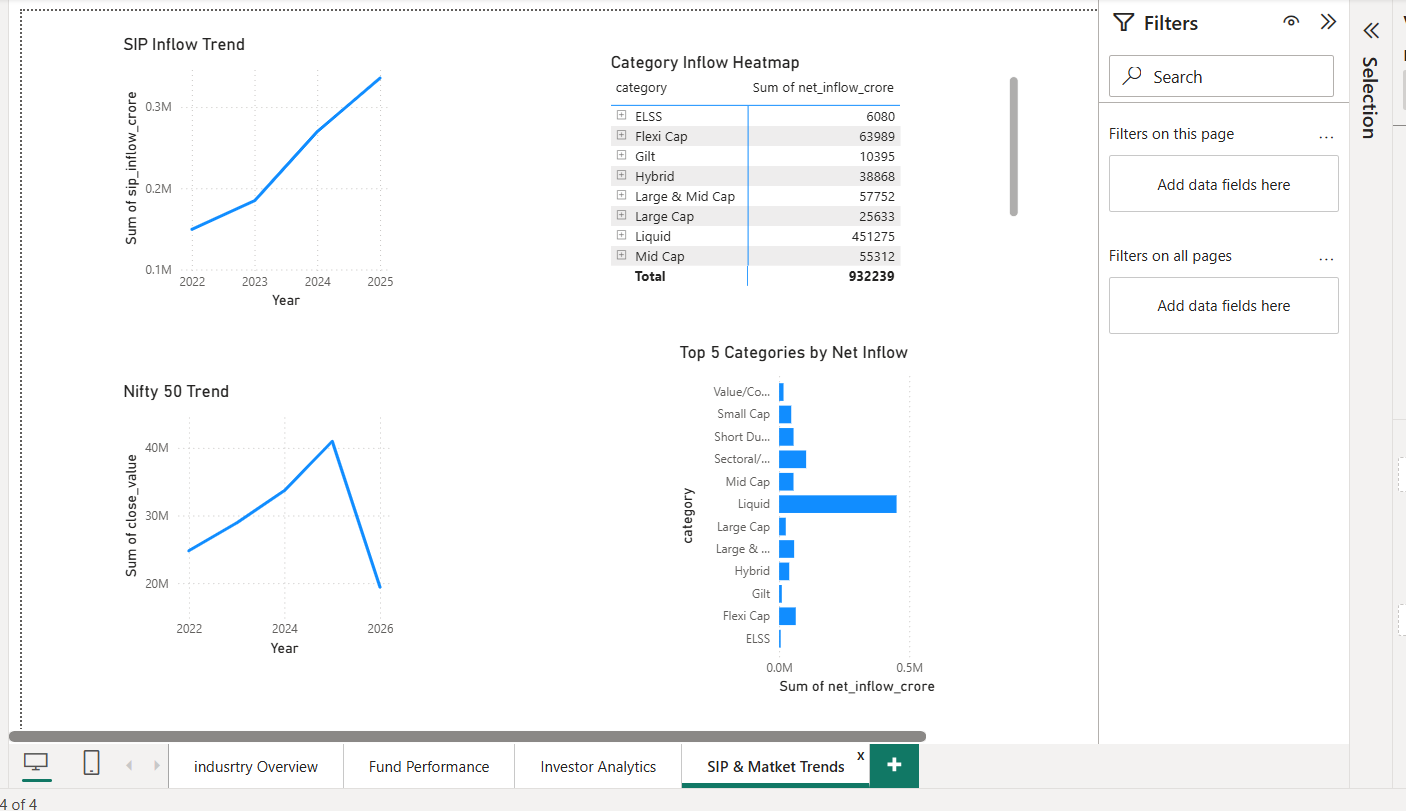

The page's visual inventory and layout, read from the dashboard file:
{"tool":"powerbi","page":{"name":"SIP & Matket Trends","canvas":[1280,720],"ordinal":3},"visuals":[{"type":"lineChart","title":"SIP Inflow Trend","fields":{"Category":["04_monthly_sip_inflows_clean.month.Variation.Date Hierarchy.Year","04_monthly_sip_inflows_clean.month.Variation.Date Hierarchy.Quarter","04_monthly_sip_inflows_clean.month.Variation.Date Hierarchy.Month","04_monthly_sip_inflows_clean.month.Variation.Date Hierarchy.Day"],"Y":["Sum(04_monthly_sip_inflows_clean.sip_inflow_crore)"]},"box":[96.2,22.5,280,280],"z":0},{"type":"lineChart","title":"Nifty 50 Trend","fields":{"Category":["10_benching_indices_clean.date.Variation.Date Hierarchy.Year","10_benching_indices_clean.date.Variation.Date Hierarchy.Quarter","10_benching_indices_clean.date.Variation.Date Hierarchy.Month","10_benching_indices_clean.date.Variation.Date Hierarchy.Day"],"Y":["Sum(10_benching_indices_clean.close_value)"]},"box":[96.2,370,280,280],"z":1},{"type":"pivotTable","title":"Category Inflow Heatmap","fields":{"Rows":["05_category_inflows_clean.category","05_category_inflows_clean.month.Variation.Date Hierarchy.Year","05_category_inflows_clean.month.Variation.Date Hierarchy.Quarter","05_category_inflows_clean.month.Variation.Date Hierarchy.Month","05_category_inflows_clean.month.Variation.Date Hierarchy.Day"],"Values":["Sum(05_category_inflows_clean.net_inflow_crore)"]},"box":[583.8,41.2,417.5,238.8],"z":2},{"type":"barChart","title":"Top 5 Categories by Net Inflow","fields":{"Category":["05_category_inflows_clean.category"],"Y":["Sum(05_category_inflows_clean.net_inflow_crore)"]},"box":[652.5,331.2,280,357.5],"z":3}]}

Visuals, with their boxes on the page's 1280x720 design canvas (x1, y1, x2, y2). These are canvas units, not pixel positions in the 1406x811 screenshot, which may show the page scaled, cropped or inside an application window:
"SIP Inflow Trend" lineChart: 96 22 376 302
"Nifty 50 Trend" lineChart: 96 370 376 650
"Category Inflow Heatmap" pivotTable: 584 41 1001 280
"Top 5 Categories by Net Inflow" barChart: 652 331 932 689
